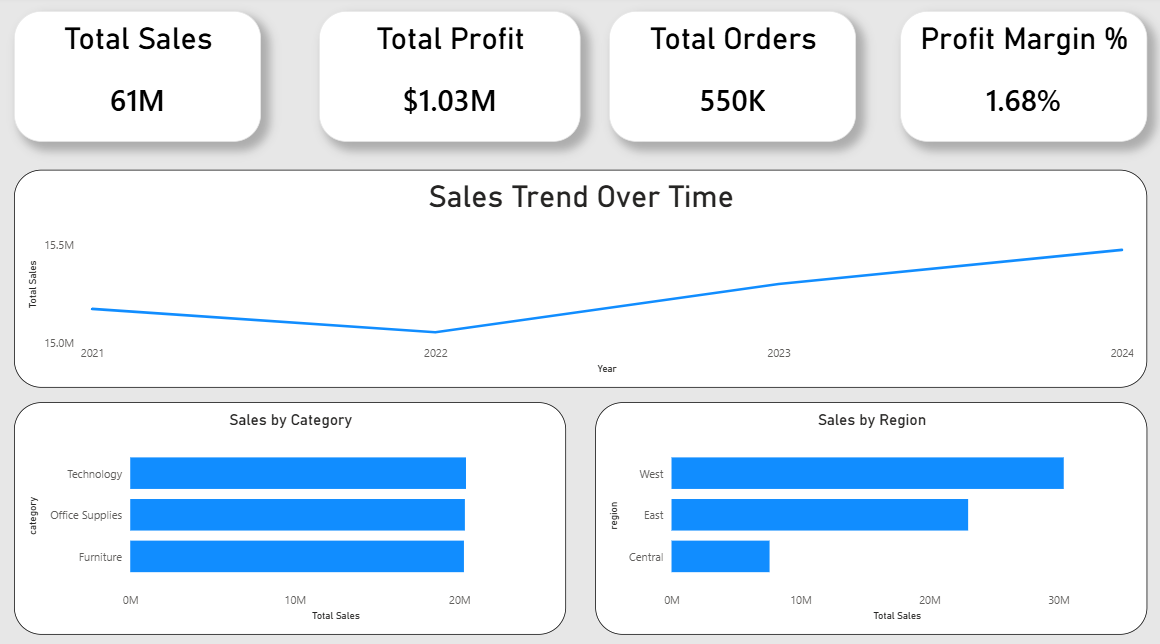

The page's visual inventory and layout, read from the dashboard file:
{"tool":"powerbi","page":{"name":"Executive Overview","canvas":[1280,720],"ordinal":0},"visuals":[{"type":"cardVisual","title":"Total Sales","fields":{"Data":["vw_sales_dashboard.Total Sales"]},"box":[16,16,272,144],"z":0},{"type":"lineChart","title":"Sales Trend Over Time","fields":{"Category":["vw_sales_dashboard.date_id.Variation.Date Hierarchy.Year","vw_sales_dashboard.date_id.Variation.Date Hierarchy.Quarter","vw_sales_dashboard.date_id.Variation.Date Hierarchy.Month","vw_sales_dashboard.date_id.Variation.Date Hierarchy.Day"],"Y":["vw_sales_dashboard.Total Sales"]},"box":[16,192,1248,240],"z":1000},{"type":"clusteredBarChart","title":"Sales by Category","fields":{"Category":["vw_sales_dashboard.category"],"Y":["vw_sales_dashboard.Total Sales"]},"box":[16,448,608,256],"z":2000},{"type":"clusteredBarChart","title":"Sales by Region","fields":{"Category":["vw_sales_dashboard.region"],"Y":["vw_sales_dashboard.Total Sales"]},"box":[656,448,608,256],"z":3000},{"type":"cardVisual","title":"Profit Margin %","fields":{"Data":["vw_sales_dashboard.Profit Margin %"]},"box":[992,16,272,144],"z":4000},{"type":"cardVisual","title":"Total Orders","fields":{"Data":["vw_sales_dashboard.Total Quantity"]},"box":[672,16,272,144],"z":5000},{"type":"cardVisual","title":"Total Profit","fields":{"Data":["vw_sales_dashboard.Total Profit"]},"box":[352,16,288,144],"z":6000}]}

Visuals, with their boxes in screenshot pixels (x1, y1, x2, y2), scaled from the page's 1280x720 canvas onto the 1160x644 screenshot:
"Total Sales" cardVisual: rect(14, 14, 261, 143)
"Sales Trend Over Time" lineChart: rect(14, 172, 1146, 386)
"Sales by Category" clusteredBarChart: rect(14, 401, 566, 630)
"Sales by Region" clusteredBarChart: rect(594, 401, 1146, 630)
"Profit Margin %" cardVisual: rect(899, 14, 1146, 143)
"Total Orders" cardVisual: rect(609, 14, 856, 143)
"Total Profit" cardVisual: rect(319, 14, 580, 143)
